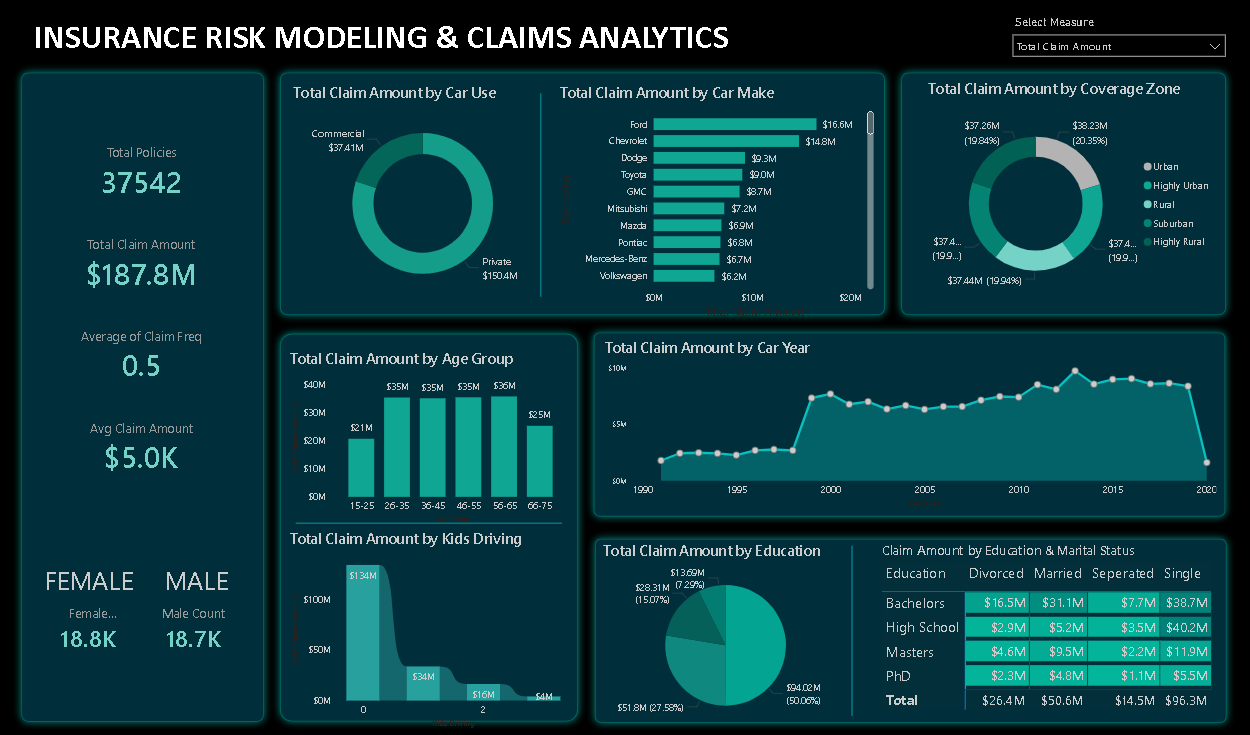

This screenshot's page, from the dashboard's own definition file:
{"tool":"powerbi","page":{"name":"Page 1","canvas":[1600,950],"ordinal":0},"visuals":[{"type":"textbox","box":[33.4,19.1,1009.2,66.9],"z":0},{"type":"shape","box":[20.6,85.8,329.3,847.3],"z":1000},{"type":"cardVisual","fields":{"Data":["insurance_data_car.Total Policies","insurance_data_car.Total Claim Amount","Avg(insurance_data_car.Claim Freq)","insurance_data_car.Avg Claim Amount"]},"box":[49.3,168.7,269,458.4],"z":2000},{"type":"cardVisual","fields":{"Data":["insurance_data_car.Female Count","insurance_data_car.Male Count"]},"box":[54.1,749.8,259.5,109.8],"z":3000},{"type":"slicer","fields":{"Values":["Select Measure.Select Measure"]},"box":[1283,18.9,291.6,66.9],"z":4000},{"type":"shape","box":[349.9,85.8,790.7,329.3],"z":5000},{"type":"donutChart","fields":{"Y":["insurance_data_car.Total Claim Amount"],"Category":["insurance_data_car.Car Use"]},"box":[372.2,108.1,339.6,284.7],"z":6000},{"type":"clusteredBarChart","fields":{"Y":["insurance_data_car.Total Claim Amount"],"Category":["insurance_data_car.Car Make"]},"box":[711.8,108.1,409.9,307],"z":7000},{"type":"shape","box":[1140.7,85.8,434,329.3],"z":8000},{"type":"donutChart","fields":{"Y":["insurance_data_car.Total Claim Amount"],"Category":["insurance_data_car.Coverage Zone"]},"box":[1181.8,102.9,375.6,295],"z":9000},{"type":"shape","box":[350.2,418.7,400,514.2],"z":10000},{"type":"clusteredColumnChart","fields":{"Y":["insurance_data_car.Total Claim Amount"],"Category":["insurance_data_car.Age Group"]},"box":[367.7,447.3,364.5,229.2],"z":11000},{"type":"ribbonChart","fields":{"Y":["insurance_data_car.Total Claim Amount"],"Category":["insurance_data_car.Kids Driving"]},"box":[367.7,676.5,364.5,259.5],"z":12000},{"type":"shape","box":[749.8,417.1,824.6,254.7],"z":13000},{"type":"areaChart","fields":{"Y":["insurance_data_car.Total Claim Amount"],"Category":["insurance_data_car.Car Year"]},"box":[768.4,432.2,789,223],"z":14000},{"type":"shape","box":[751.3,679.7,824.6,254.7],"z":15000},{"type":"pieChart","fields":{"Y":["insurance_data_car.Total Claim Amount"],"Category":["insurance_data_car.Education"]},"box":[767.3,692.4,321.5,242],"z":16000},{"type":"pivotTable","title":"Claim Amount by Education & Marital Status","fields":{"Rows":["insurance_data_car.Education"],"Columns":["insurance_data_car.Marital Status"],"Values":["insurance_data_car.Total Claim Amount"]},"box":[1122.2,692.4,434.6,222.9],"z":17000},{"type":"shape","box":[542.8,122.6,299.3,259.5],"z":18000},{"type":"shape","box":[939.2,698.8,299.3,216.5],"z":19000},{"type":"shape","box":[380.4,561.9,339.1,216.5],"z":20000},{"type":"textbox","box":[55.7,716.3,128.9,62.1],"z":21000},{"type":"textbox","box":[208.5,716.3,105.1,54.1],"z":22000}]}

Visuals, with their boxes in screenshot pixels (x1, y1, x2, y2), scaled from the page's 1600x950 canvas onto the 1250x735 screenshot:
textbox: box=[26, 15, 815, 67]
shape: box=[16, 66, 273, 722]
cardVisual - insurance_data_car.Total Policies x insurance_data_car.Total Claim Amount: box=[39, 131, 249, 485]
cardVisual - insurance_data_car.Female Count x insurance_data_car.Male Count: box=[42, 580, 245, 665]
slicer - Select Measure.Select Measure: box=[1002, 15, 1230, 66]
shape: box=[273, 66, 891, 321]
donutChart - insurance_data_car.Total Claim Amount x insurance_data_car.Car Use: box=[291, 84, 556, 304]
clusteredBarChart - insurance_data_car.Total Claim Amount x insurance_data_car.Car Make: box=[556, 84, 876, 321]
shape: box=[891, 66, 1230, 321]
donutChart - insurance_data_car.Total Claim Amount x insurance_data_car.Coverage Zone: box=[923, 80, 1217, 308]
shape: box=[274, 324, 586, 722]
clusteredColumnChart - insurance_data_car.Total Claim Amount x insurance_data_car.Age Group: box=[287, 346, 572, 523]
ribbonChart - insurance_data_car.Total Claim Amount x insurance_data_car.Kids Driving: box=[287, 523, 572, 724]
shape: box=[586, 323, 1230, 520]
areaChart - insurance_data_car.Total Claim Amount x insurance_data_car.Car Year: box=[600, 334, 1217, 507]
shape: box=[587, 526, 1231, 723]
pieChart - insurance_data_car.Total Claim Amount x insurance_data_car.Education: box=[599, 536, 851, 723]
"Claim Amount by Education & Marital Status" pivotTable: box=[877, 536, 1216, 708]
shape: box=[424, 95, 658, 296]
shape: box=[734, 541, 968, 708]
shape: box=[297, 435, 562, 602]
textbox: box=[44, 554, 144, 602]
textbox: box=[163, 554, 245, 596]
